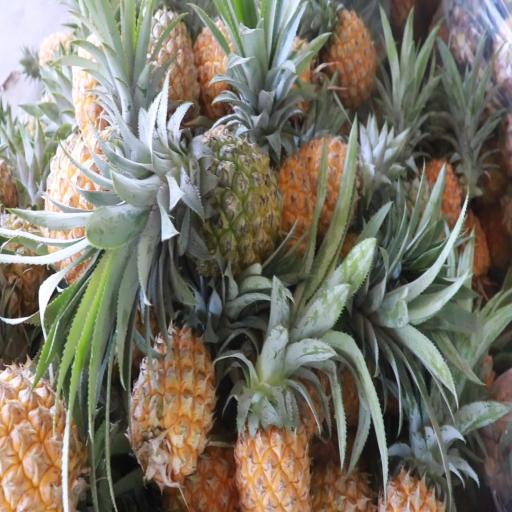Pineapple - v8 v1: (47, 128, 166, 284), (0, 368, 105, 512), (132, 318, 218, 492), (234, 328, 315, 512), (322, 11, 390, 114)
